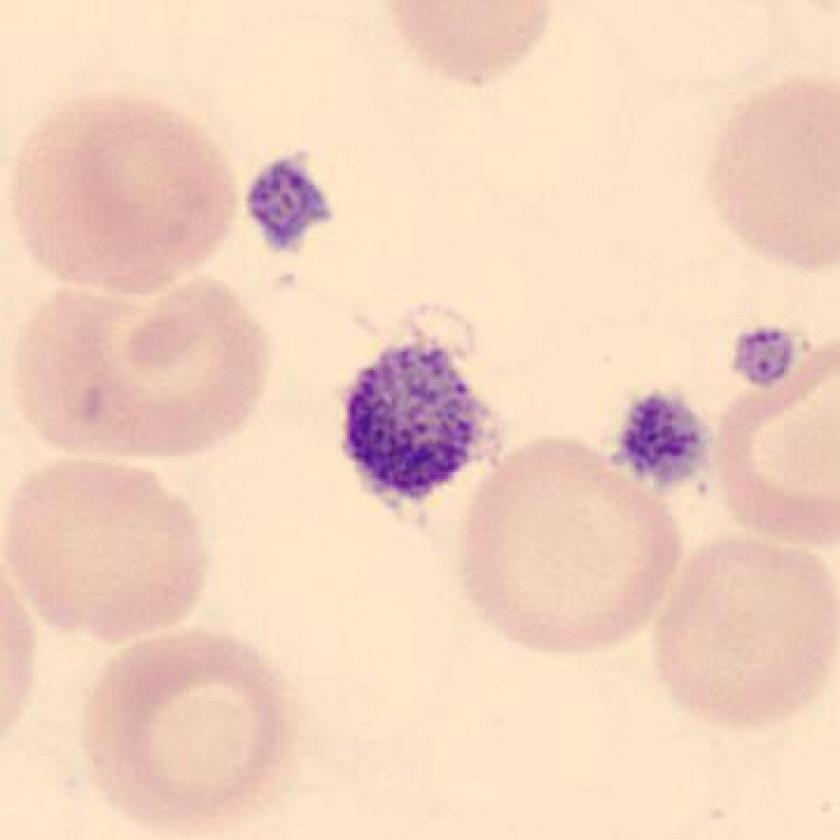platelets: (332, 330, 498, 529), (605, 387, 720, 508), (235, 147, 340, 256), (715, 316, 811, 399)
